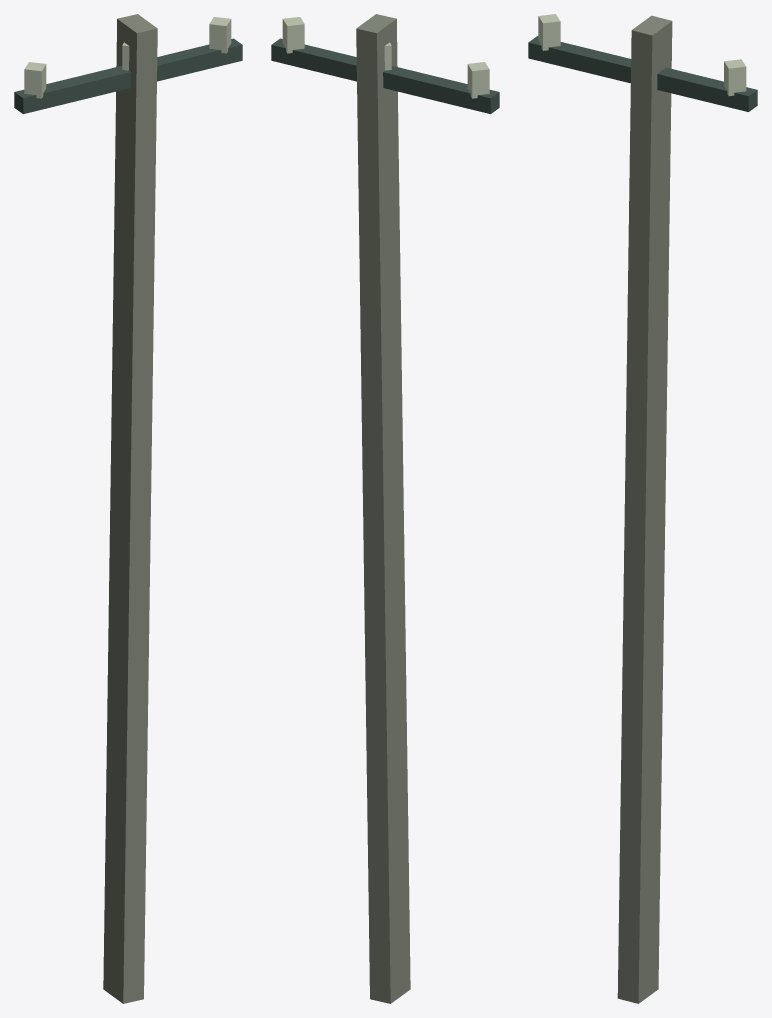
Rendered from ua_village_concrete_pole.obj.
The picture shows the model from 3 angles, left to right: view 1: azimuth 30°, elevation 25°; view 2: azimuth 150°, elevation 25°; view 3: azimuth 330°, elevation 25°; orthographic projection.
Parts seen in each view (by area): view 1: ua_village_concrete_pole; view 2: ua_village_concrete_pole; view 3: ua_village_concrete_pole.
Boxes of the visible parts, x1,y1,x2,y2 form: ua_village_concrete_pole: (14,14,242,1003); ua_village_concrete_pole: (271,14,499,1003); ua_village_concrete_pole: (528,14,757,1003).
Size of the model in its own units: 1.59 by 6.7 by 0.25.
